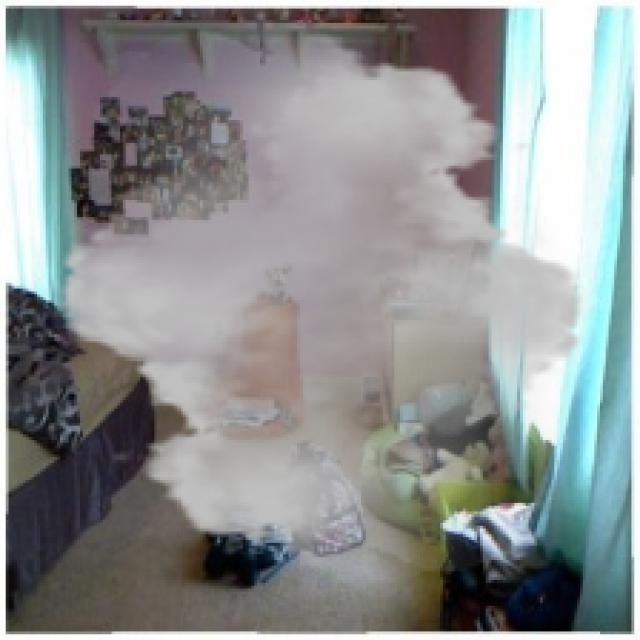smoke: (37, 20, 606, 583)
